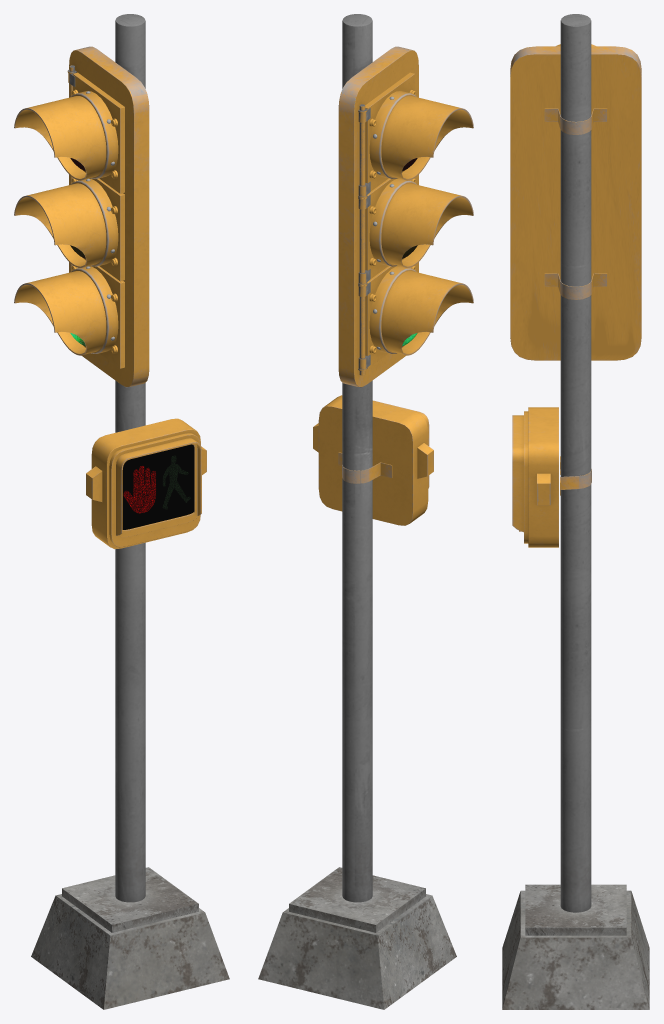
Rendered from nyc_traffic_light.glb.
The picture shows the model from 3 angles, left to right: view 1: azimuth 30°, elevation 25°; view 2: azimuth 150°, elevation 25°; view 3: azimuth 270°, elevation 25°; orthographic projection.
Visible parts, largest first — view 1: LightsB, LightsA_Material #466_0, LightsD; view 2: LightsB, LightsA_Material #466_0, LightsD; view 3: LightsB, LightsD.
Boxes of the visible parts, x1,y1,x2,y2 form: LightsB: (31,14,229,1009); LightsA_Material #466_0: (14,72,124,368); LightsD: (86,418,206,549); LightsB: (258,14,456,1009); LightsA_Material #466_0: (365,72,473,368); LightsD: (313,395,433,525); LightsB: (502,14,649,1009); LightsD: (512,407,558,547).
Bounding box in the file's own units: 2.08 × 11.88 × 1.65.
Materials: 4 (4 with a texture image).
